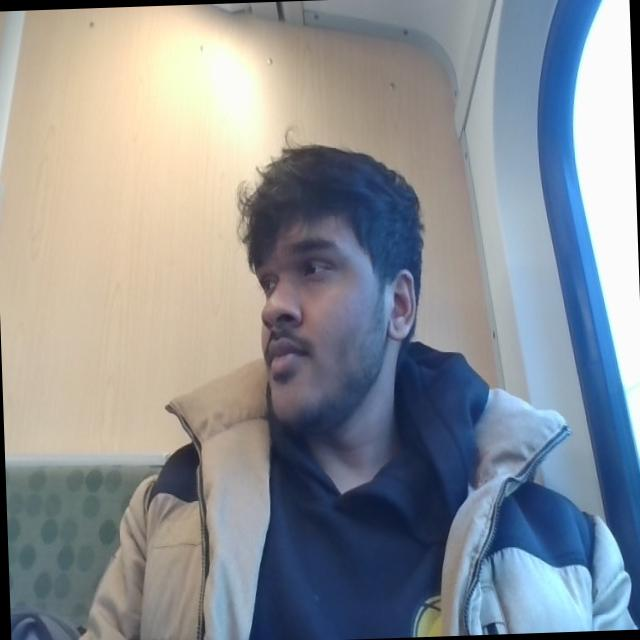no hat: (229, 111, 426, 241)
